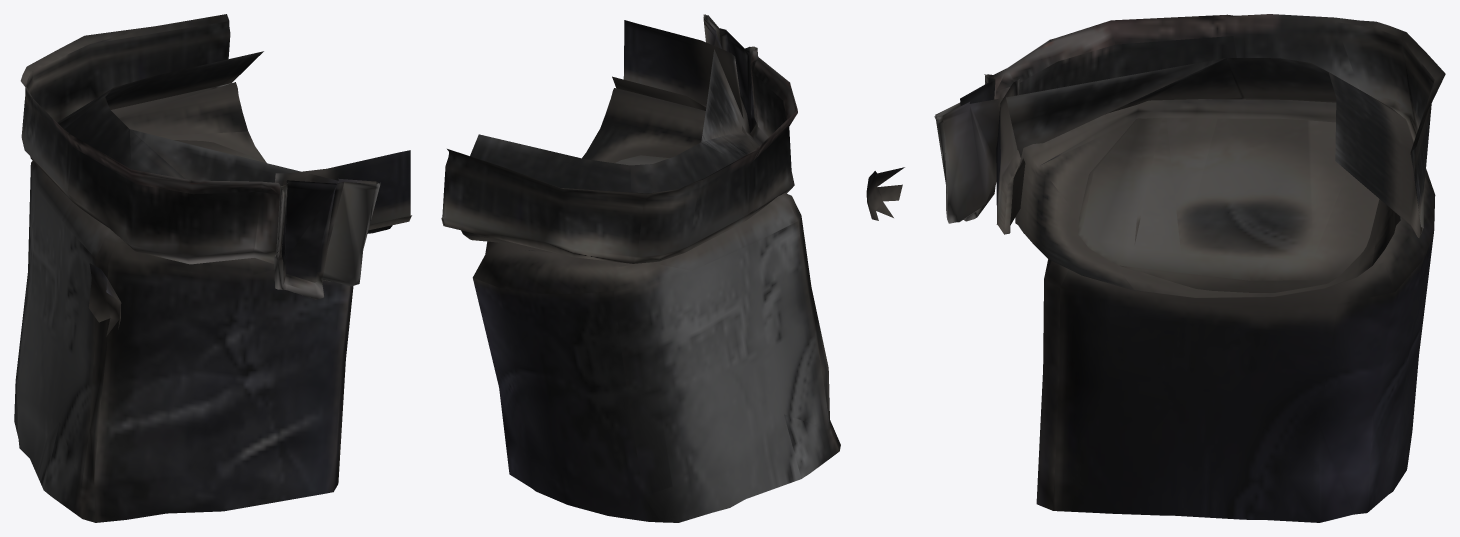
File: RightUpperLeg.glb
The picture shows the model from 3 angles, left to right: view 1: azimuth 30°, elevation 25°; view 2: azimuth 150°, elevation 25°; view 3: azimuth 270°, elevation 25°; orthographic projection. The views are drawn at different scales.
Visible parts, largest first — view 1: RightUpperLeg; view 2: RightUpperLeg; view 3: RightUpperLeg.
Boxes of the visible parts, box(x1,y1,x2,y2) form: RightUpperLeg: box(14, 14, 411, 522); RightUpperLeg: box(441, 14, 904, 522); RightUpperLeg: box(934, 14, 1445, 522).
Size of the model in its own units: 1.38 by 1.51 by 1.79.
Materials: 1 (1 with a texture image).
